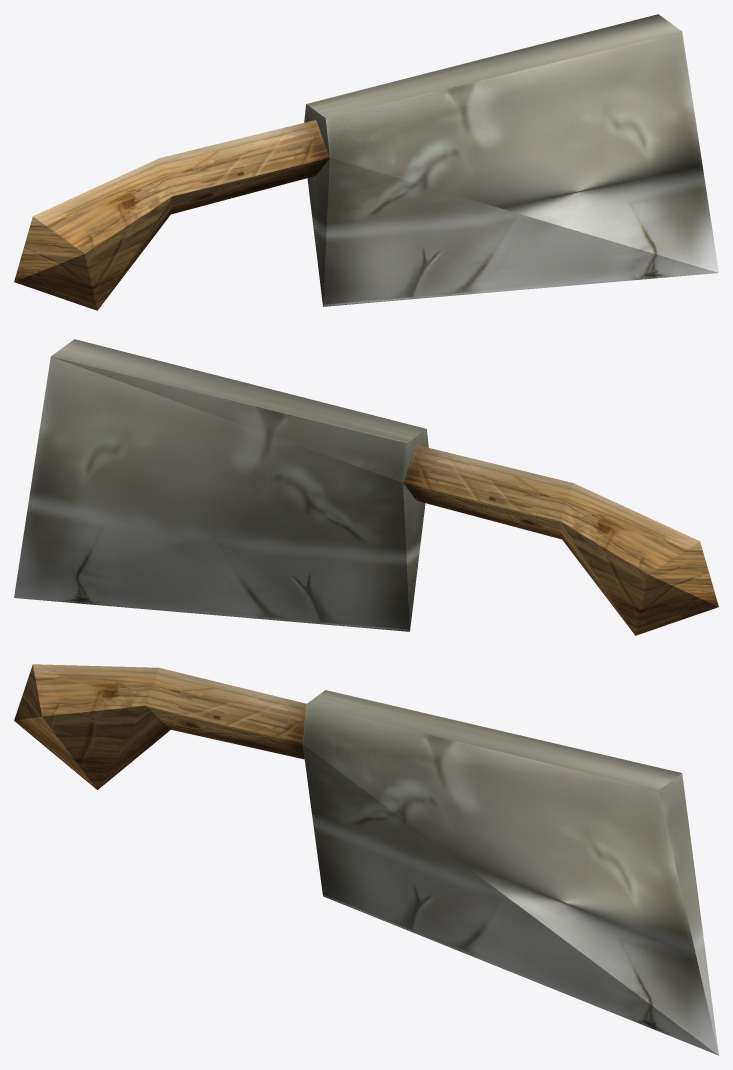
Rendered from cleaver01.obj.
3 renders of one model, top to bottom at view 1: azimuth 30°, elevation 25°; view 2: azimuth 150°, elevation 25°; view 3: azimuth 330°, elevation 25°, orthographic.
Visible parts, largest first — view 1: cleaver01; view 2: cleaver01; view 3: cleaver01.
Boxes of the visible parts, box(x1,y1,x2,y2) form: cleaver01: box(14, 14, 718, 310); cleaver01: box(14, 339, 718, 635); cleaver01: box(14, 664, 718, 1055).
Bounding box in the file's own units: 0.963 × 0.342 × 0.1012.
Materials: 1 (1 with a texture image).
